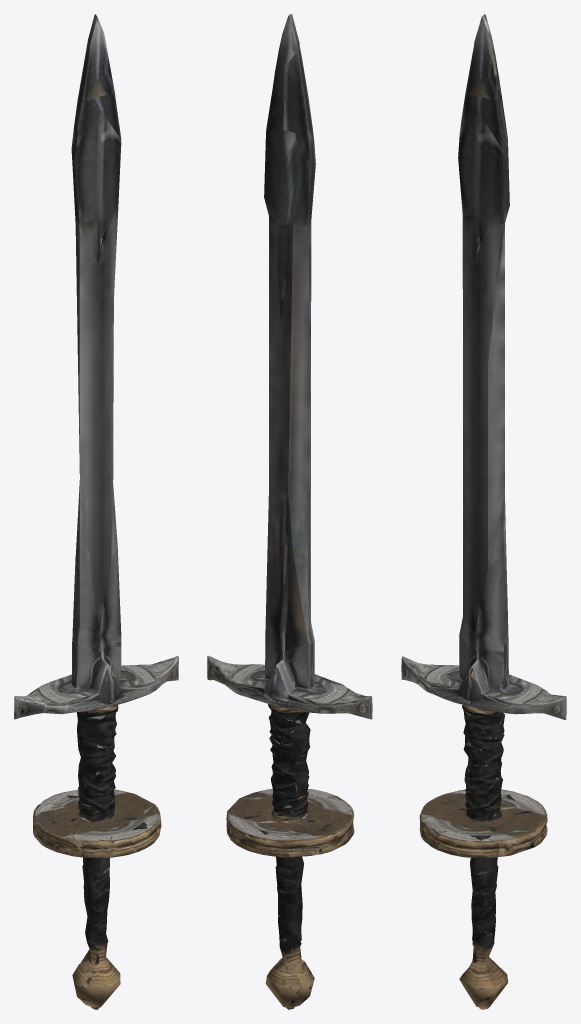
The model's file is weapon-longsword.glb.
3 views of the same model, side by side, from view 1: azimuth 30°, elevation 25°; view 2: azimuth 150°, elevation 25°; view 3: azimuth 330°, elevation 25° (orthographic).
Bounding box in the file's own units: 0.1651 × 0.9524 × 0.1111.
Materials: 1 (1 with a texture image).
